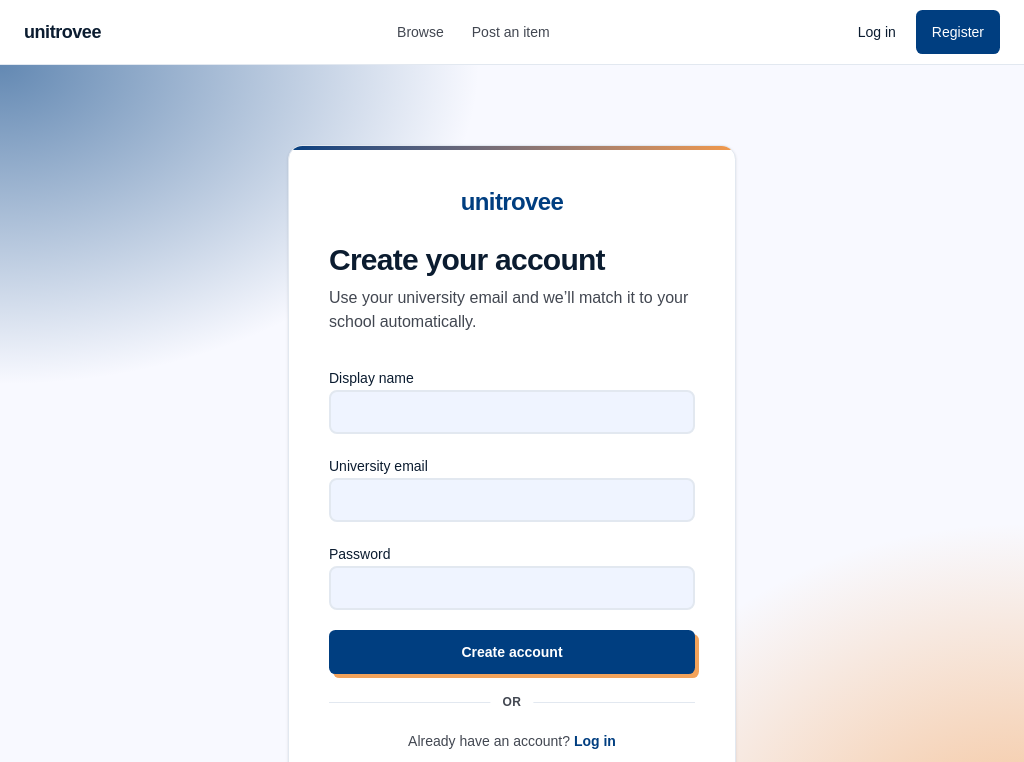
Test case: RegisterPage › shows a required error when password is empty
In the field labelled "Display name": (512, 412) [329,390,695,434], type "Aoife Murphy"
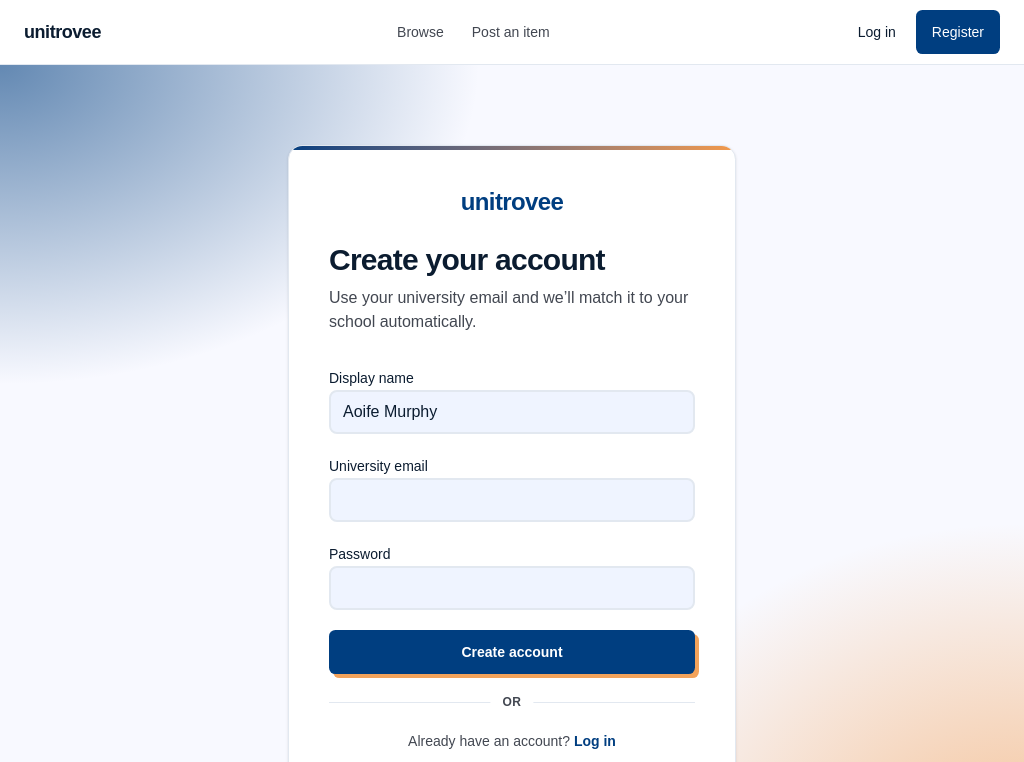
In the field labelled "University email": (512, 500) [329,478,695,522], type "aoife@ucdconnect.ie"
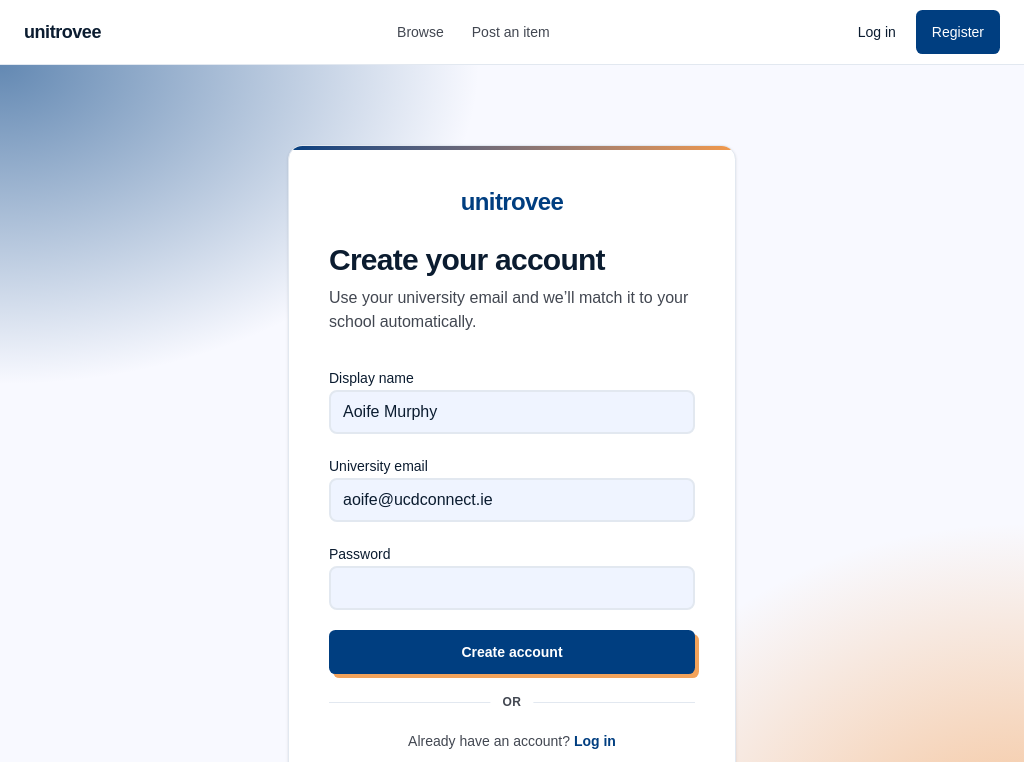
Click the button "Create account": (512, 652) [329,630,695,674]
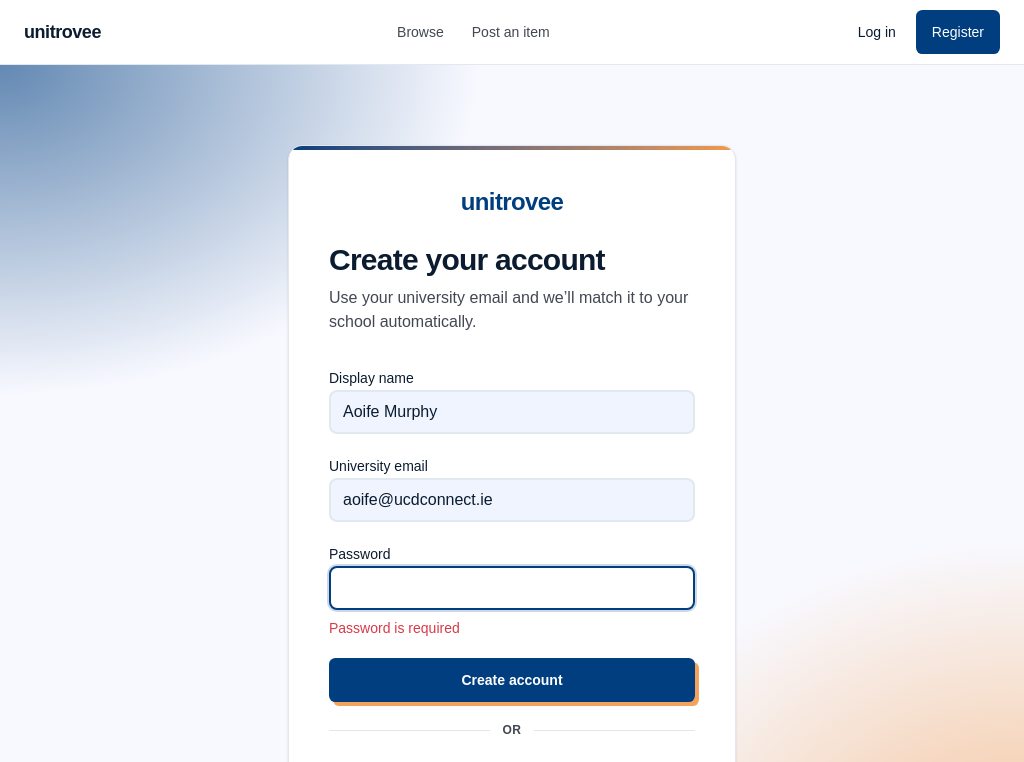
Check: the text "Password is required" is shown, box [329,620,460,636]
